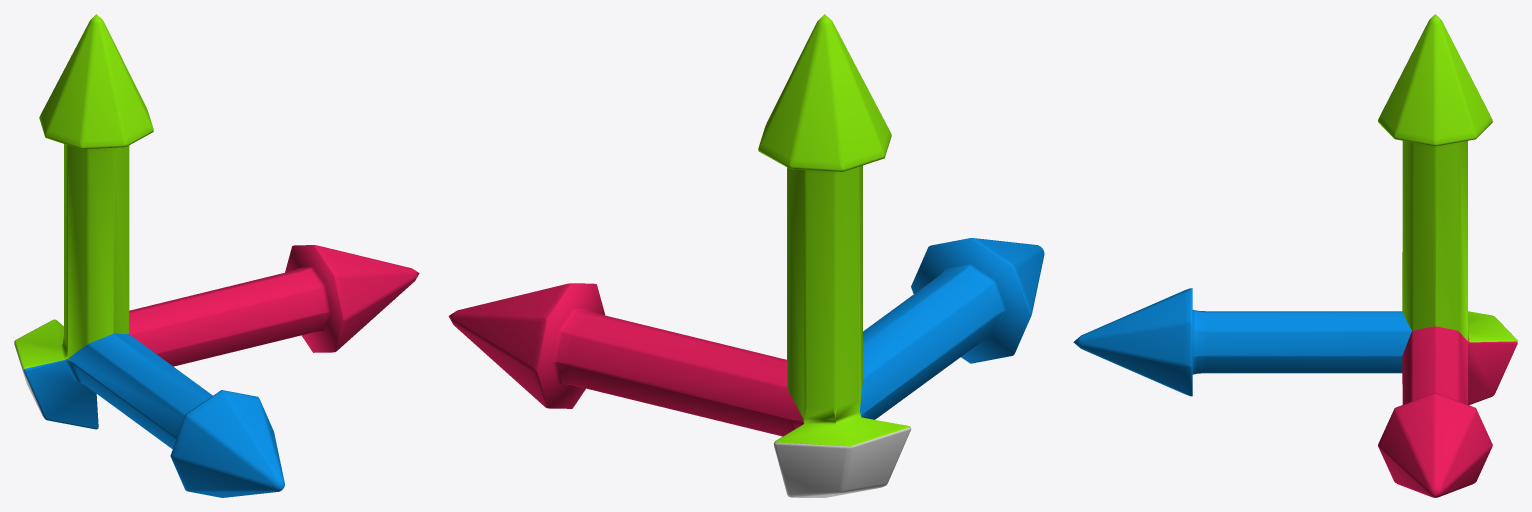
Rendered from gizmo.glb.
3 views of the same model, side by side, from view 1: azimuth 30°, elevation 25°; view 2: azimuth 150°, elevation 25°; view 3: azimuth 270°, elevation 25° (orthographic). The views are drawn at different scales.
Parts seen in each view (by area): view 1: Gizmo; view 2: Gizmo; view 3: Gizmo.
Boxes of the visible parts, x1=… form: Gizmo: x1=14, y1=14, x2=419, y2=497; Gizmo: x1=448, y1=14, x2=1044, y2=497; Gizmo: x1=1073, y1=14, x2=1517, y2=497.
Bounding box in the file's own units: 13.46 × 13.46 × 13.46.
